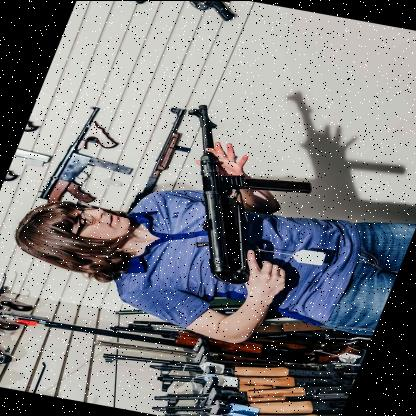rifle: (124, 99, 340, 290)
